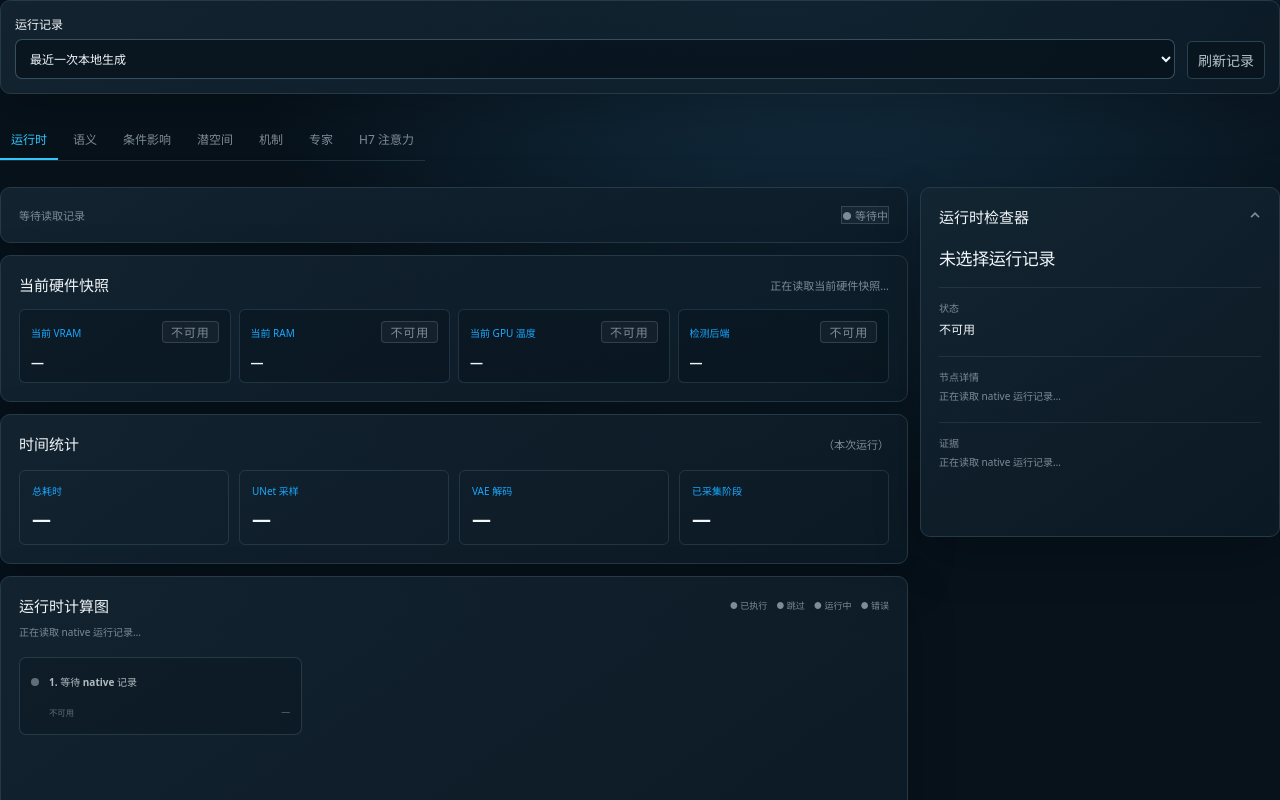
Scenario: Microscope route-specific capture guidance › explains missing visual capture in self with regeneration advice
This screenshot has width=1280, height=800.
Click the tab "H7 注意力". click: (387, 140)
box: left=348, top=120, right=425, bottom=160
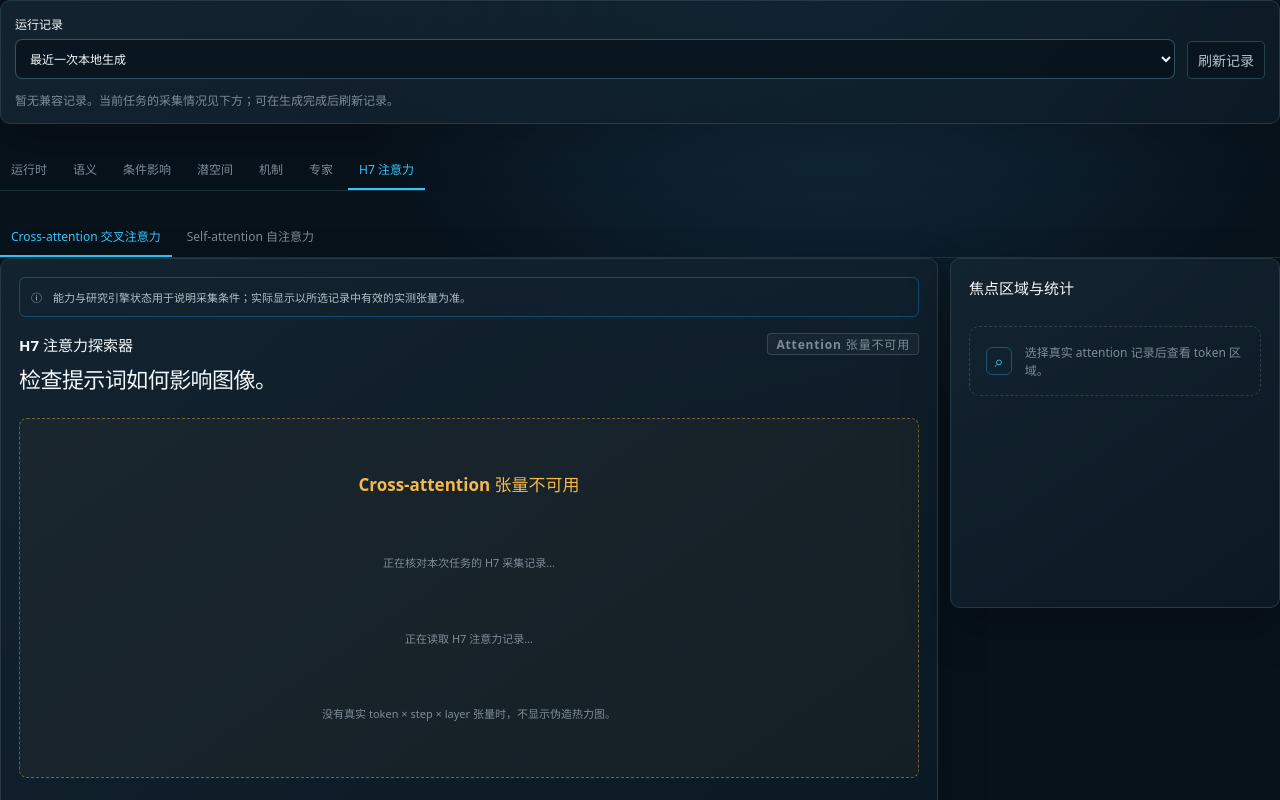
Click the tab "Self-attention 自注意力". click: (250, 237)
box: left=176, top=217, right=325, bottom=257
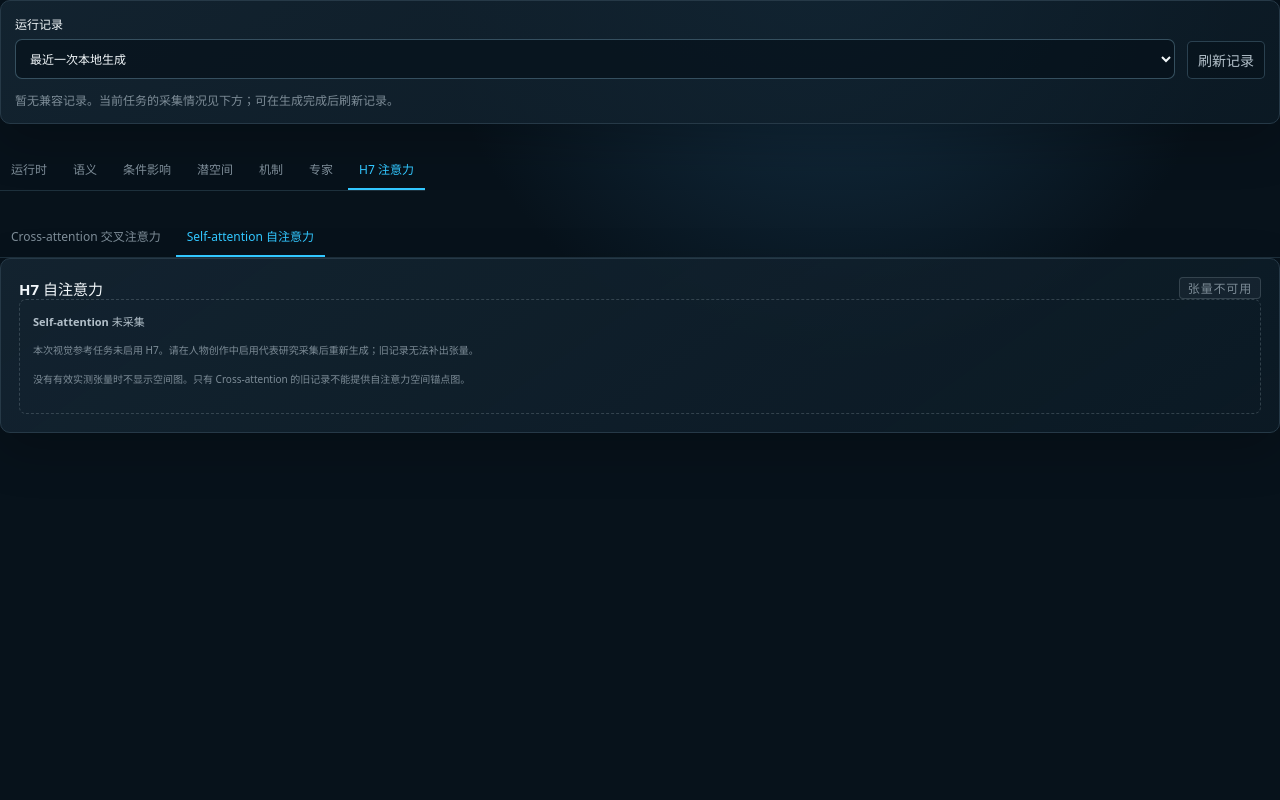
Expected: the text "本次视觉参考任务未启用 H7。请在人物创作中启用代表研究采集后重新生成；旧记录无法补出张量。" is shown, left=33, top=343, right=479, bottom=357
Expected: the text "没有真实 token × step × layer 张量时，不显示伪造热力图。" is gone
